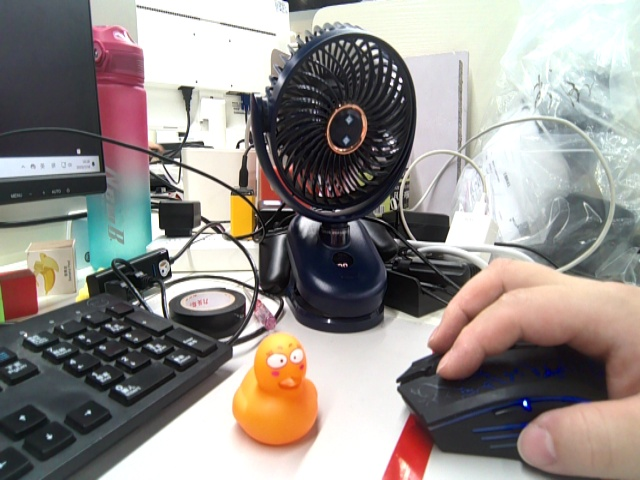duck: (232, 328, 318, 448)
